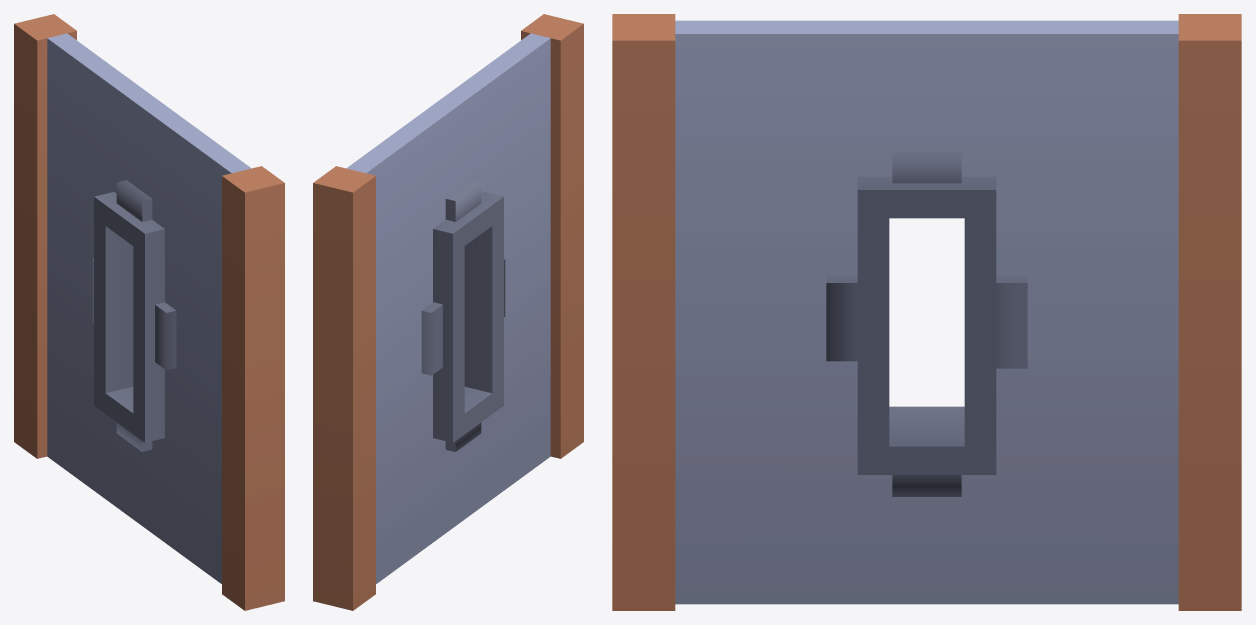
Rendered from wall-window-stone.glb.
3 renders of one model, left to right at view 1: azimuth 30°, elevation 25°; view 2: azimuth 150°, elevation 25°; view 3: azimuth 270°, elevation 25°, orthographic. The views are drawn at different scales.
Visible parts, largest first — view 1: wall-window-stone; view 2: wall-window-stone; view 3: wall-window-stone.
Part boxes in pixels (x1,y1,x2,y2): wall-window-stone: (14,14,284,610); wall-window-stone: (313,14,583,610); wall-window-stone: (612,14,1241,610).
Bounding box in the file's own units: 0.15 × 1 × 1.
1 material, 1 textured.
